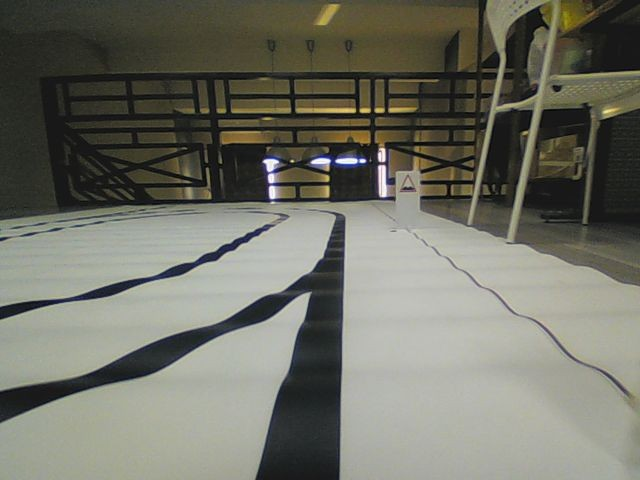Nerov: (398, 173, 417, 195)
